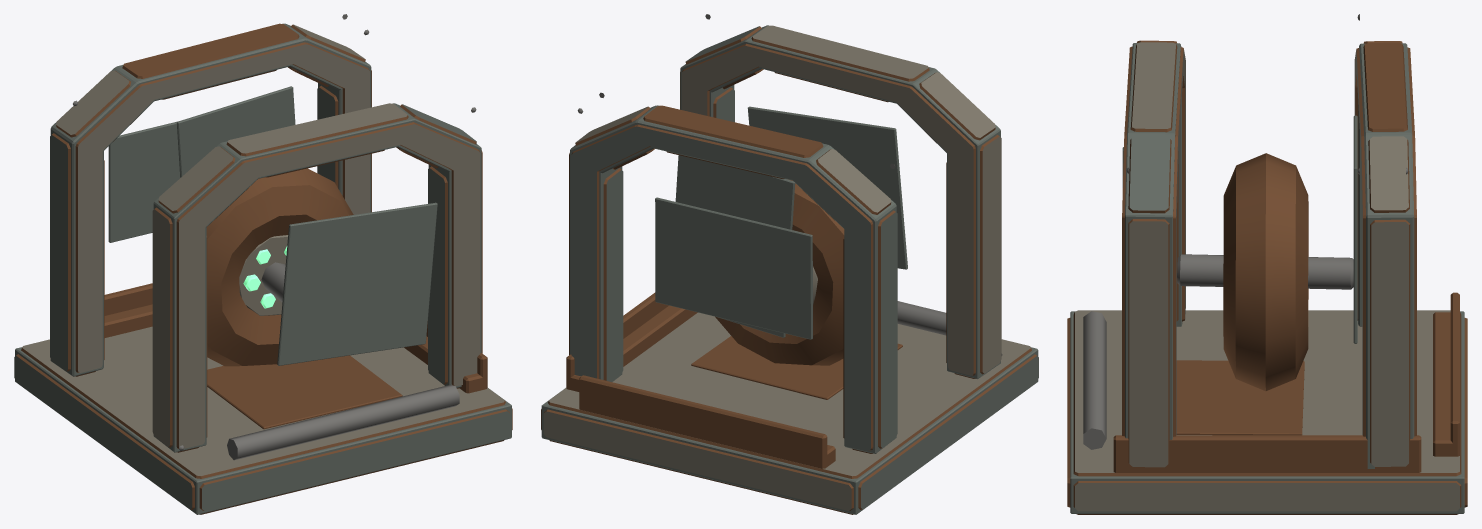
File: R4X_MovementDurabilityBooster.fbx
The picture shows the model from 3 angles, left to right: view 1: azimuth 30°, elevation 25°; view 2: azimuth 150°, elevation 25°; view 3: azimuth 270°, elevation 25°; orthographic projection. The views are drawn at different scales.
Visible parts, largest first — view 1: R4X_MovementDurabilityBooster_Body, R4X_MovementDurabilityBooster_Wheel; view 2: R4X_MovementDurabilityBooster_Body, R4X_MovementDurabilityBooster_Wheel; view 3: R4X_MovementDurabilityBooster_Body, R4X_MovementDurabilityBooster_Wheel.
Boxes of the visible parts, x1,y1,x2,y2 form: R4X_MovementDurabilityBooster_Body: (14,14,512,514); R4X_MovementDurabilityBooster_Wheel: (206,168,353,366); R4X_MovementDurabilityBooster_Body: (541,14,1038,514); R4X_MovementDurabilityBooster_Wheel: (715,180,844,365); R4X_MovementDurabilityBooster_Body: (1067,14,1467,514); R4X_MovementDurabilityBooster_Wheel: (1223,153,1308,391).
Size of the model in its own units: 0.52 by 0.5 by 0.52.
